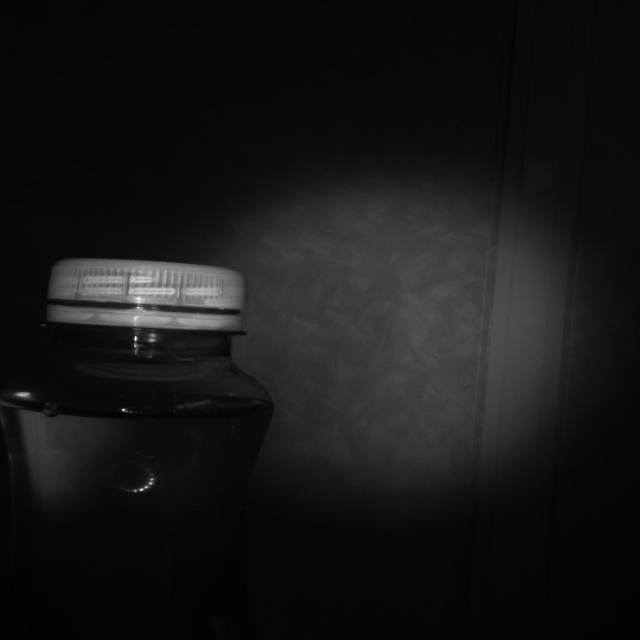Not Good: (43, 256, 246, 334)
